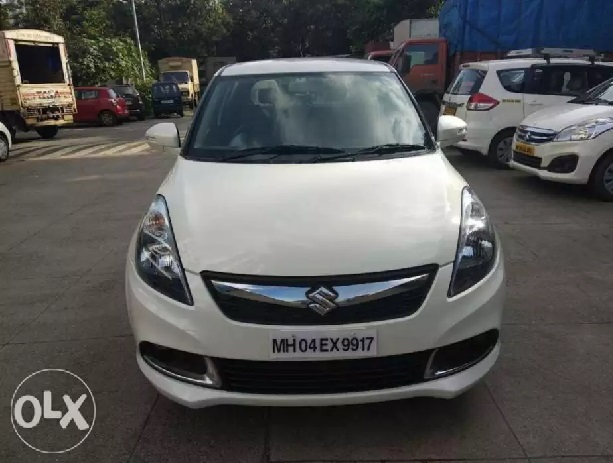licenseplate: (268, 325, 381, 359)
